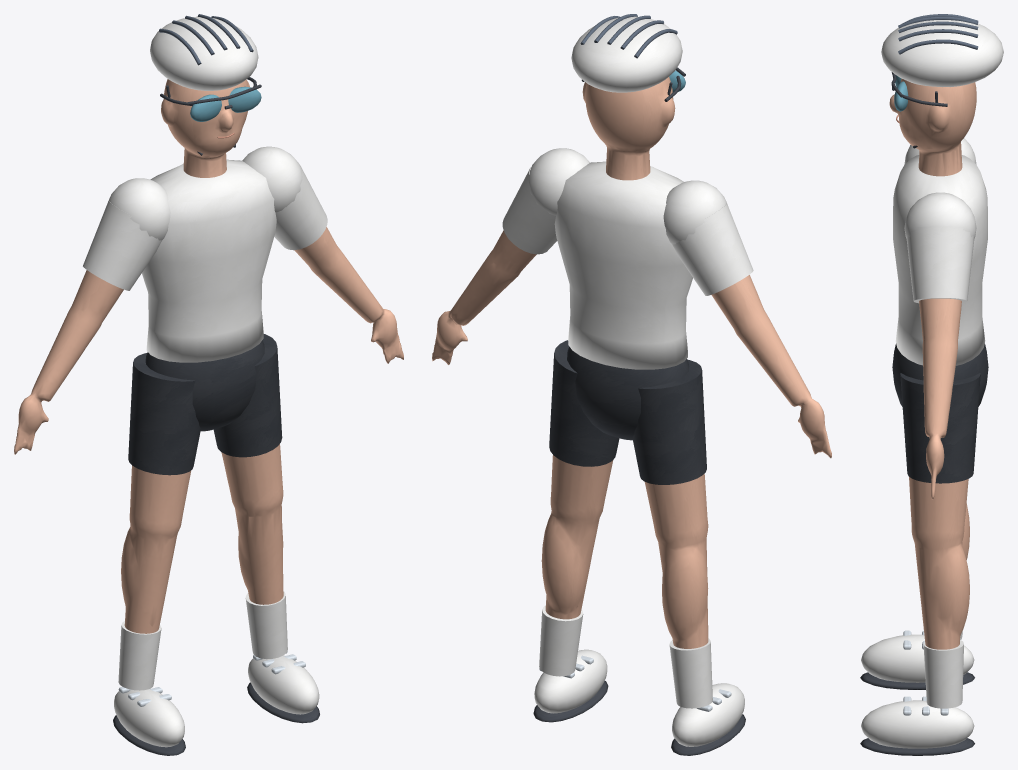
Rendered from rider.glb.
The picture shows the model from 3 angles, left to right: view 1: azimuth 30°, elevation 25°; view 2: azimuth 150°, elevation 25°; view 3: azimuth 270°, elevation 25°; orthographic projection. The views are drawn at different scales.
Visible parts, largest first — view 1: rider; view 2: rider; view 3: rider.
Boxes of the visible parts, box(x1,y1,x2,y2) form: rider: box(14, 14, 403, 755); rider: box(432, 14, 831, 755); rider: box(860, 14, 1003, 755).
Size of the model in its own units: 1.09 by 1.85 by 0.347.
Materials: 1 (1 with a texture image).
